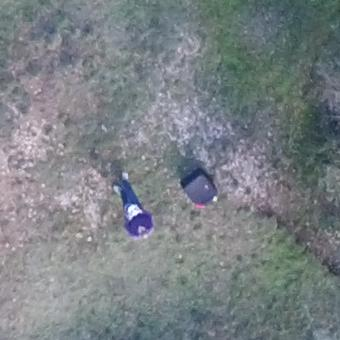human: (108, 167, 156, 239)
